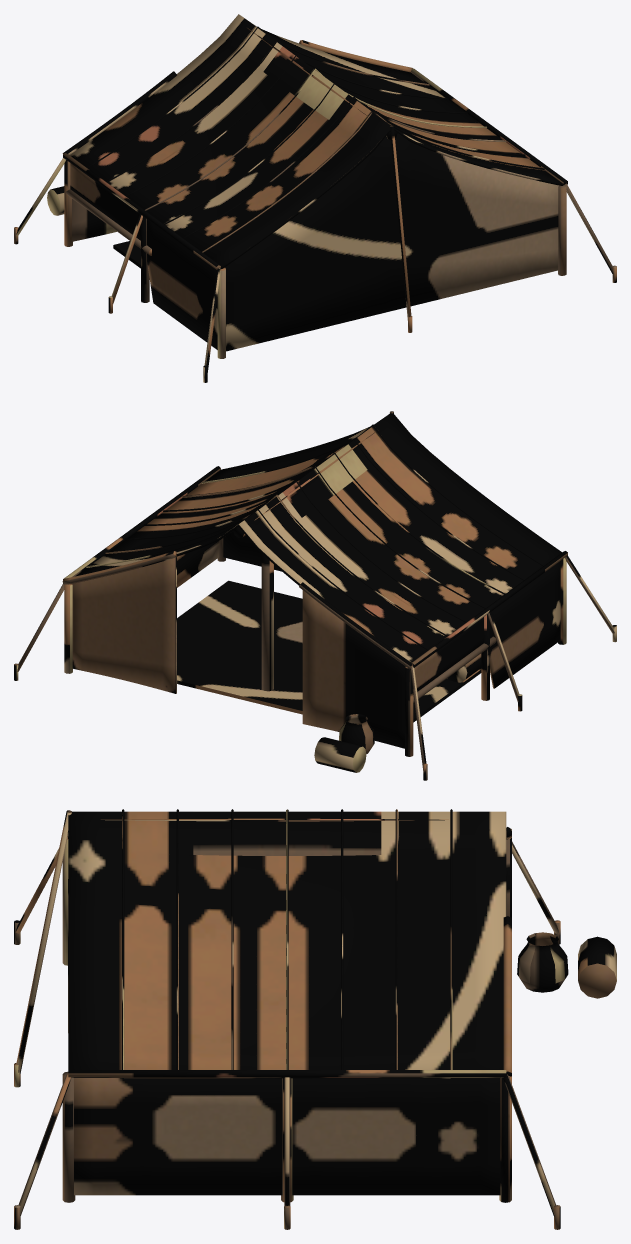
3 views of the same model, one above another, from view 1: azimuth 30°, elevation 25°; view 2: azimuth 150°, elevation 25°; view 3: azimuth 270°, elevation 25° (orthographic). The views are drawn at different scales.
Parts seen in each view (by area): view 1: garrison_part_0002, garrison_part_0003, garrison_part_0001, garrison_part_0000; view 2: garrison_part_0002, garrison_part_0003, garrison_part_0000, garrison_part_0001, garrison_part_0004; view 3: garrison_part_0002, garrison_part_0003, garrison_part_0001, garrison_part_0004, garrison_part_0000.
Part boxes in pixels (<box>): garrison_part_0002: <box>16,14,613,372</box>; garrison_part_0003: <box>62,40,559,351</box>; garrison_part_0001: <box>64,28,566,358</box>; garrison_part_0000: <box>14,227,616,382</box>; garrison_part_0002: <box>17,411,614,770</box>; garrison_part_0003: <box>62,531,560,748</box>; garrison_part_0000: <box>14,580,616,780</box>; garrison_part_0001: <box>64,432,566,756</box>; garrison_part_0004: <box>314,653,481,772</box>; garrison_part_0002: <box>15,809,558,1216</box>; garrison_part_0003: <box>74,827,511,1195</box>; garrison_part_0001: <box>62,818,511,1202</box>; garrison_part_0004: <box>517,932,616,998</box>; garrison_part_0000: <box>14,920,560,1229</box>.
Bounding box in the file's own units: 1399 × 628 × 1239.
